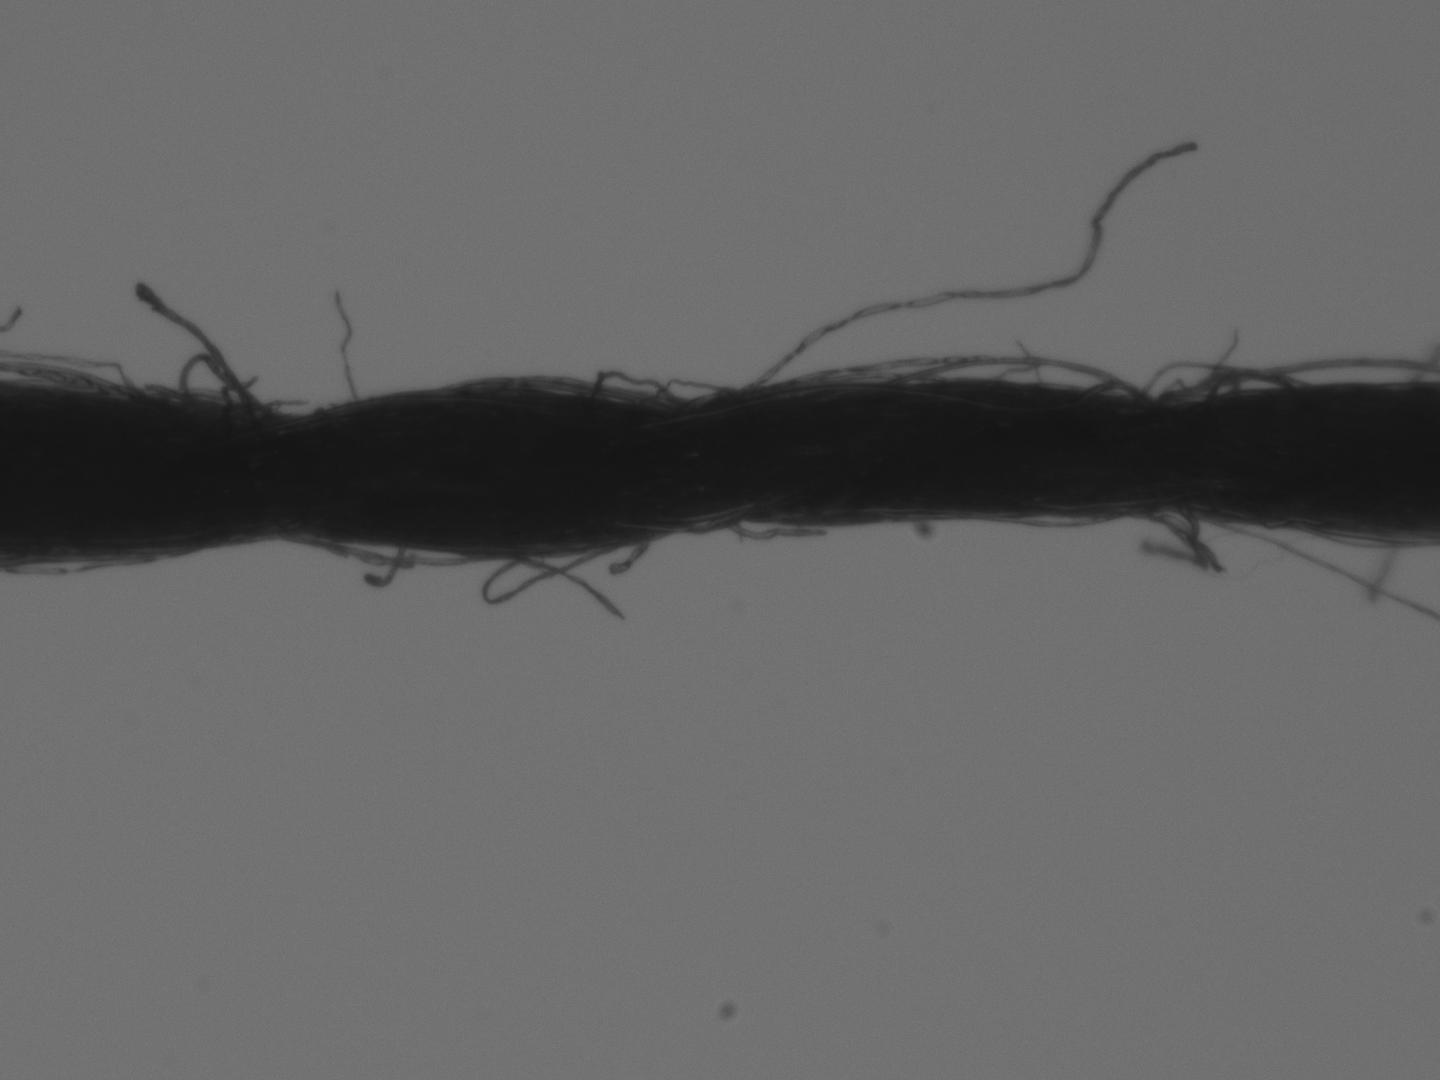loop_fiber: (786, 351, 1104, 393), (480, 534, 633, 608), (282, 533, 495, 571), (173, 355, 287, 421), (1143, 361, 1321, 402), (1090, 506, 1208, 567), (587, 364, 692, 407), (643, 373, 743, 417), (1078, 371, 1164, 412)
protruding_fiber: (732, 137, 1205, 395), (332, 287, 364, 403)
